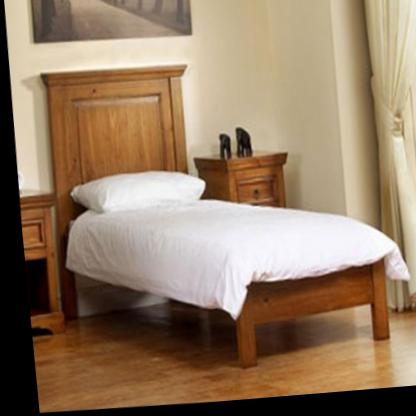Bed: (53, 173, 403, 373)
